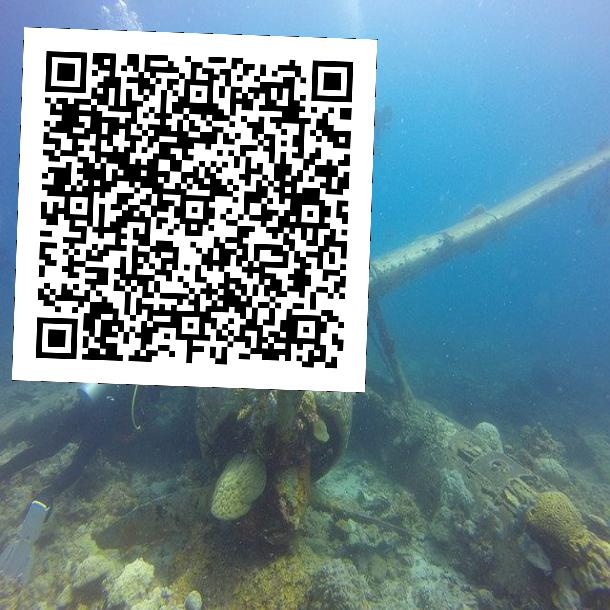qr_code: (12, 27, 377, 392)
